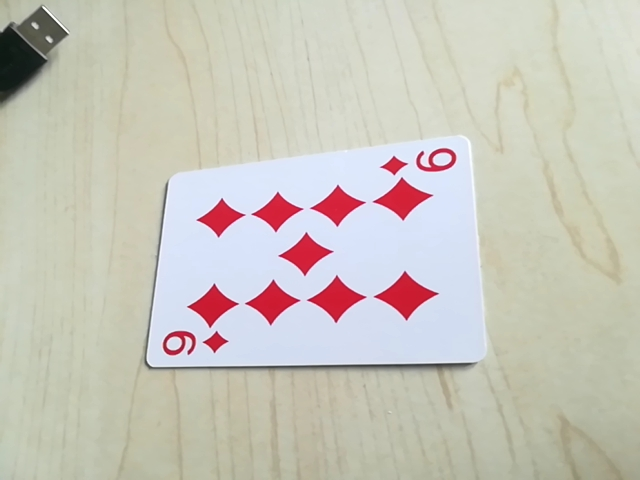fk 9: (378, 142, 463, 180), (153, 327, 231, 365)
